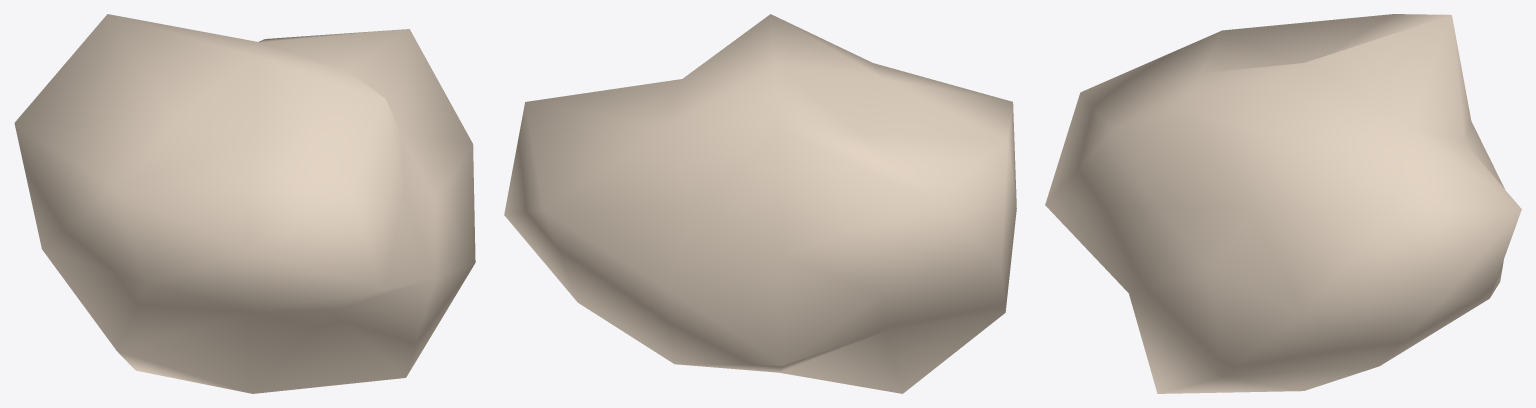
Rendered from debris_chunk.glb.
3 renders of one model, left to right at view 1: azimuth 30°, elevation 25°; view 2: azimuth 150°, elevation 25°; view 3: azimuth 270°, elevation 25°, orthographic. The views are drawn at different scales.
Visible parts, largest first — view 1: g0; view 2: g0; view 3: g0.
Boxes of the visible parts, x1,y1,x2,y2 form: g0: (14, 14, 475, 393); g0: (504, 14, 1016, 393); g0: (1045, 14, 1521, 393).
Bounding box in the file's own units: 0.7437 × 0.4954 × 0.6977.
